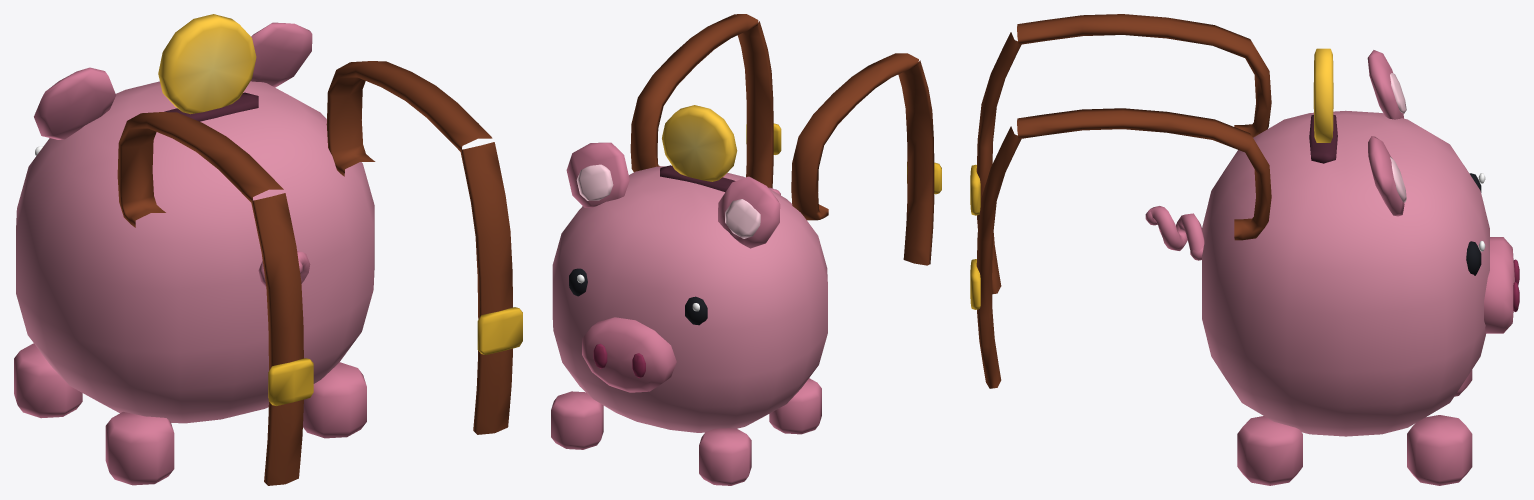
The model's file is back_bxpig.glb.
3 renders of one model, left to right at view 1: azimuth 30°, elevation 25°; view 2: azimuth 150°, elevation 25°; view 3: azimuth 270°, elevation 25°, orthographic. The views are drawn at different scales.
Parts seen in each view (by area): view 1: bxpig, bxpig_front, bxpig_strap; view 2: bxpig, bxpig_strap, bxpig_front; view 3: bxpig, bxpig_strap, bxpig_front.
Boxes of the visible parts, x1,y1,x2,y2 form: bxpig: (14,14,374,485); bxpig_front: (251,142,522,485); bxpig_strap: (117,61,492,227); bxpig: (551,105,827,485); bxpig_strap: (630,14,918,220); bxpig_front: (738,21,941,265); bxpig: (1145,48,1519,485); bxpig_strap: (1017,14,1271,240); bxpig_front: (970,32,1021,388).
Size of the model in its own units: 1.49 by 1.88 by 2.46.
